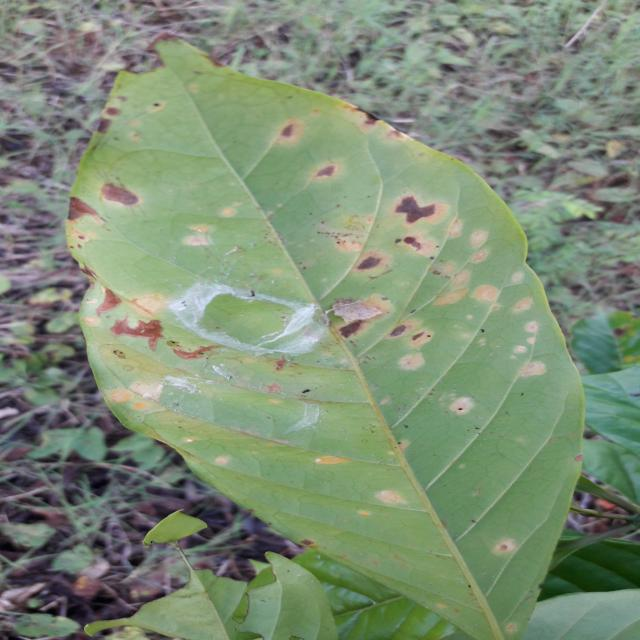Plaga-AranaRoja: (63, 41, 586, 640)
